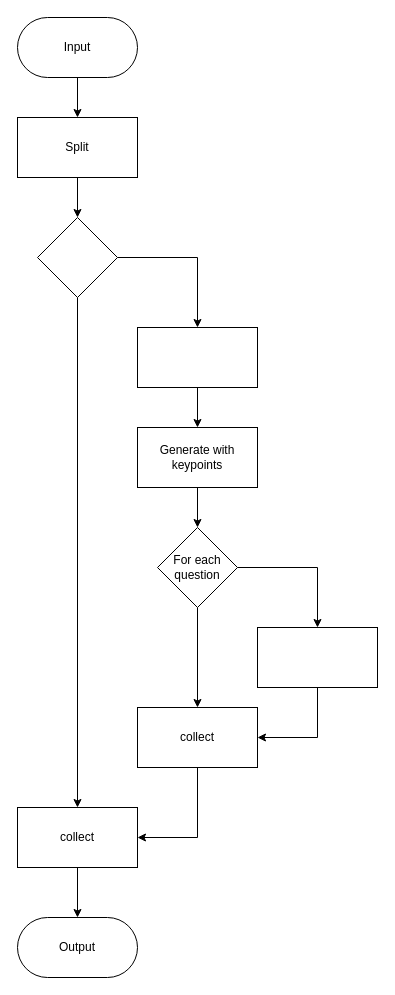
The diagram is 395 pixels wide and 995 high, and some of its shapes have lost their labels. Each missing label, with the centre of its shape:
Enrich: pixel 317 657
For each chapter: pixel 77 257
Summarize key points: pixel 197 357
